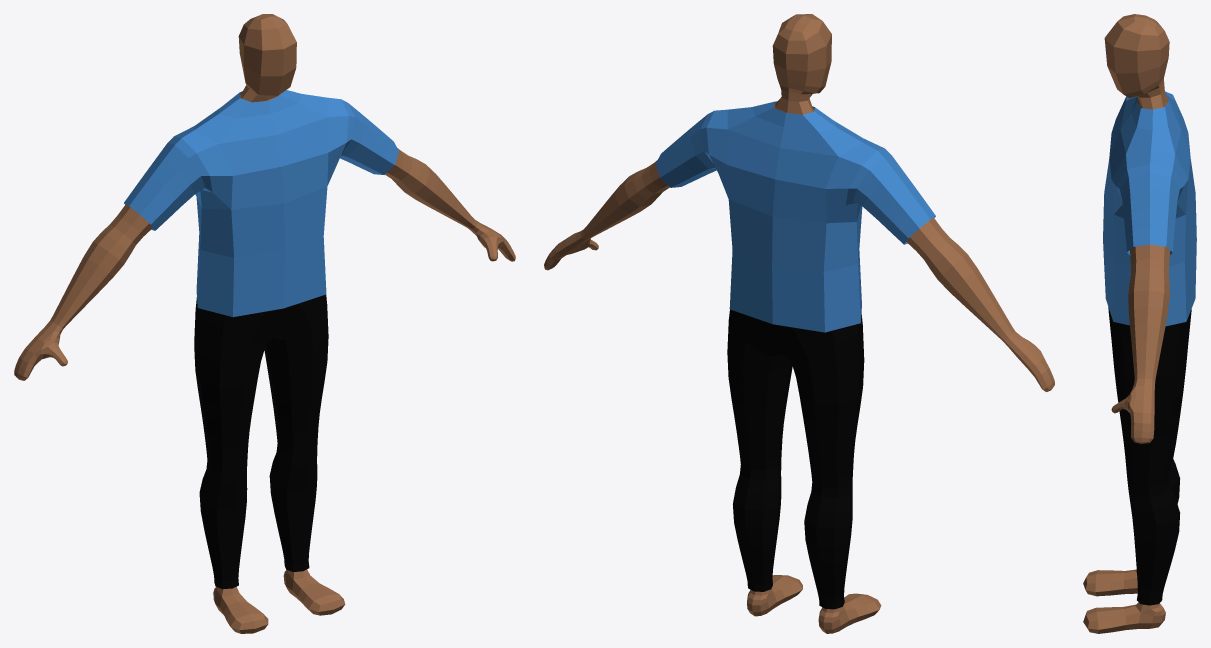
The model's file is Male.obj.
3 views of the same model, side by side, from view 1: azimuth 30°, elevation 25°; view 2: azimuth 150°, elevation 25°; view 3: azimuth 270°, elevation 25° (orthographic).
Parts seen in each view (by area): view 1: Vert.001, Vert.002, Vert; view 2: Vert.001, Vert.002, Vert; view 3: Vert.001, Vert, Vert.002.
Part boxes in pixels (x1,y1,x2,y2): Vert.001: [124, 90, 398, 316]; Vert.002: [194, 294, 328, 589]; Vert: [14, 14, 515, 633]; Vert.001: [655, 101, 935, 332]; Vert.002: [727, 309, 864, 609]; Vert: [544, 14, 1054, 633]; Vert.001: [1103, 91, 1196, 326]; Vert: [1083, 14, 1170, 633]; Vert.002: [1108, 307, 1191, 605].
Size of the model in its own units: 5.5 by 6.27 by 1.09.
